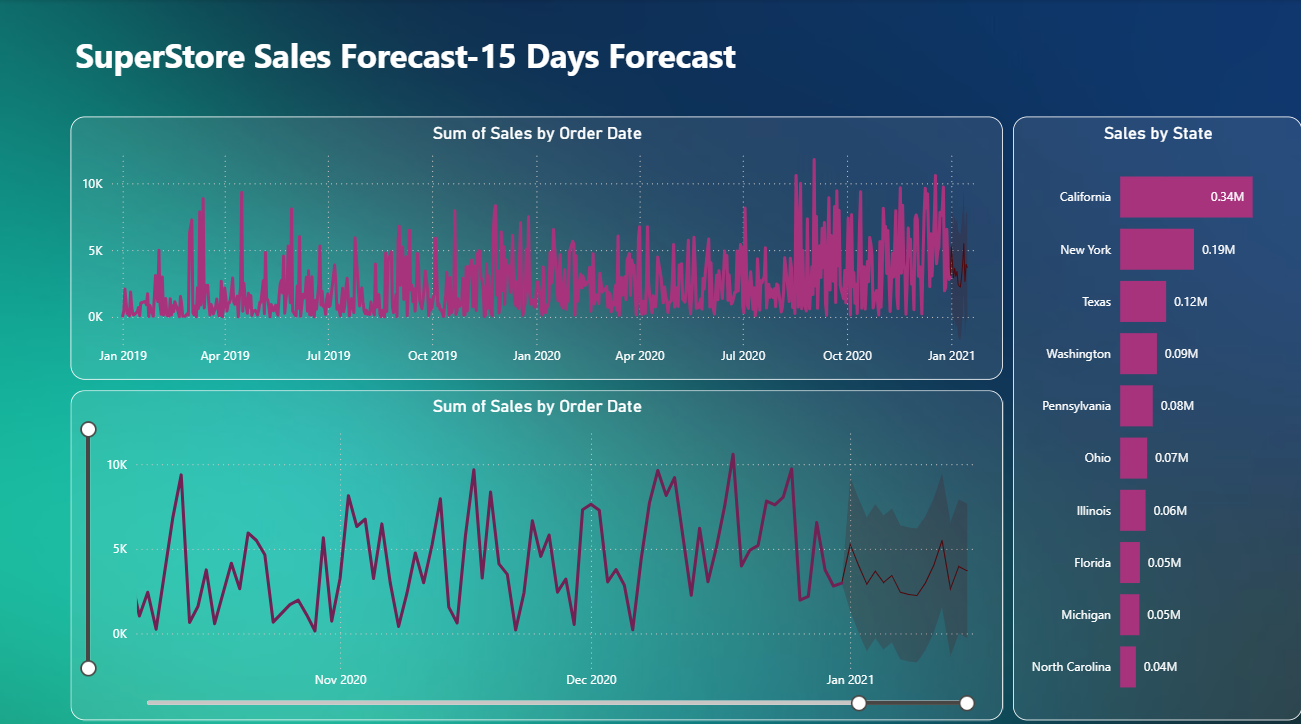

The page's visual inventory and layout, read from the dashboard file:
{"tool":"powerbi","page":{"name":"Page 2","canvas":[1280,720],"ordinal":1},"visuals":[{"type":"lineChart","fields":{"Y":["Sum(Sheet1.Sales)"],"Category":["Sheet1.Order Date"]},"box":[71.2,115,915,258.8],"z":0},{"type":"lineChart","fields":{"Y":["Sum(Sheet1.Sales)"],"Category":["Sheet1.Order Date"]},"box":[71.2,383.8,915,323.8],"z":1000},{"type":"textbox","box":[71.2,28.8,748.8,60],"z":2000},{"type":"barChart","title":" Sales by State","fields":{"Category":["Sheet1.State"],"Y":["Sum(Sheet1.Sales)"]},"box":[996.2,115,283.8,592.5],"z":3000}]}

Visuals, with their boxes in screenshot pixels (x1, y1, x2, y2), scaled from the page's 1280x720 canvas onto the 1301x724 screenshot:
lineChart - Sum(Sheet1.Sales) x Sheet1.Order Date: {"left": 72, "top": 116, "right": 1002, "bottom": 376}
lineChart - Sum(Sheet1.Sales) x Sheet1.Order Date: {"left": 72, "top": 386, "right": 1002, "bottom": 712}
textbox: {"left": 72, "top": 29, "right": 833, "bottom": 89}
" Sales by State" barChart: {"left": 1013, "top": 116, "right": 1300, "bottom": 711}
